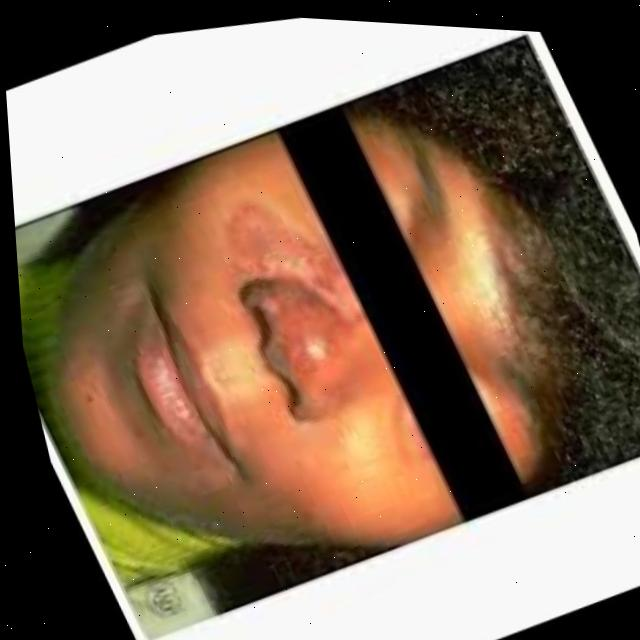Eczema: (214, 201, 348, 306), (270, 300, 355, 373)
